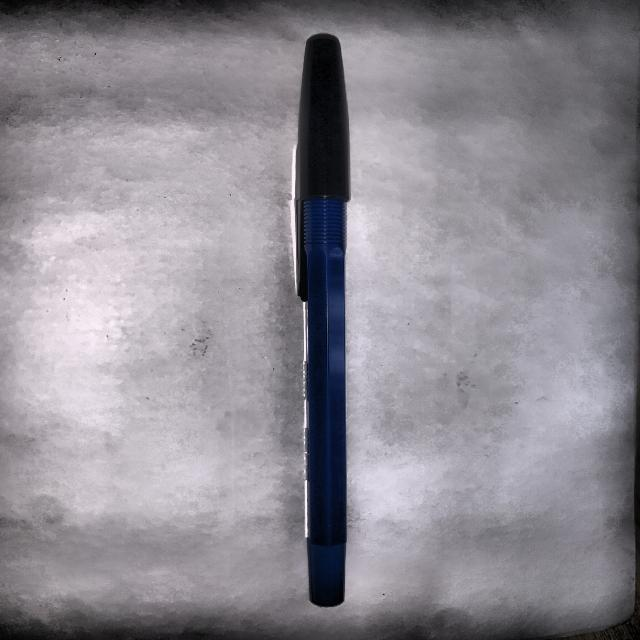Pulpen: (277, 27, 373, 617)
